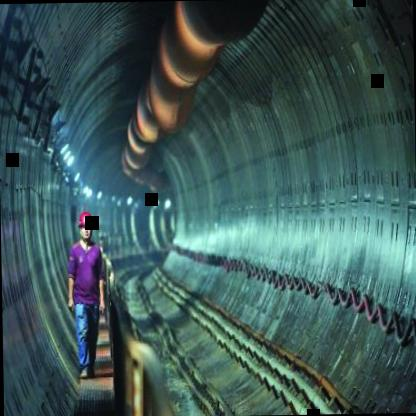helmet: (78, 207, 93, 244)
